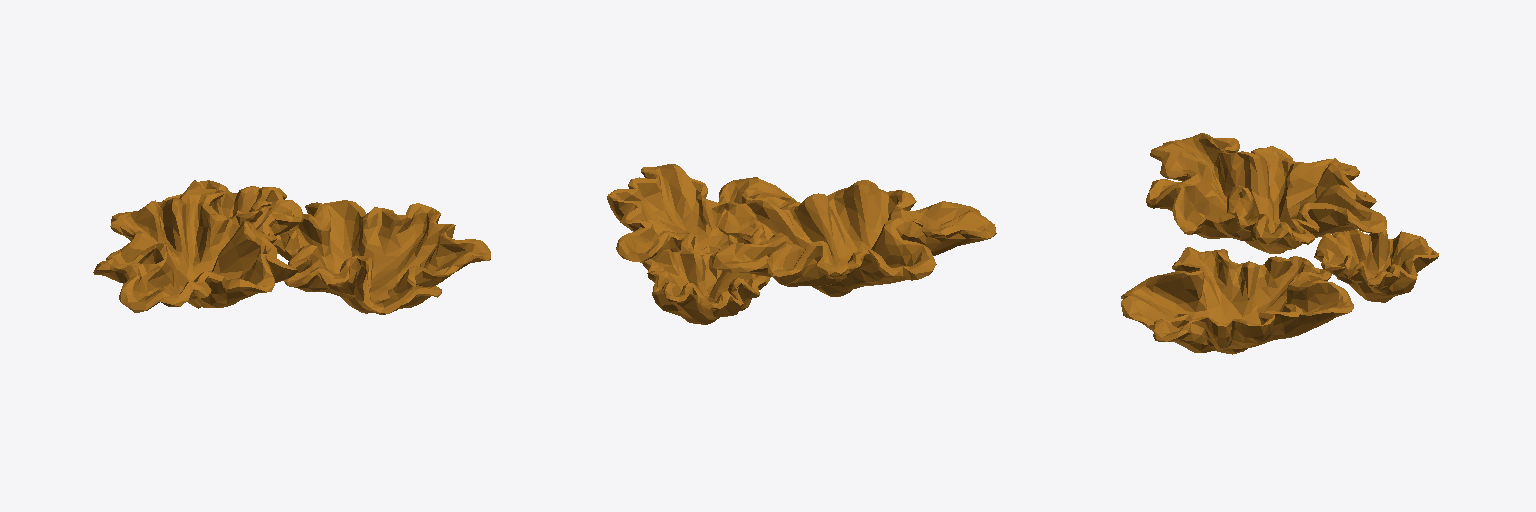
Rendered from Object_LeatherCoral1.obj.
3 views of the same model, side by side, from view 1: azimuth 30°, elevation 25°; view 2: azimuth 150°, elevation 25°; view 3: azimuth 270°, elevation 25° (orthographic).
Visible parts, largest first — view 1: LeatherCoral1; view 2: LeatherCoral1; view 3: LeatherCoral1.
Part boxes in pixels (left/top/right/bottom): LeatherCoral1: left=93, top=180, right=490, bottom=314; LeatherCoral1: left=607, top=164, right=996, bottom=324; LeatherCoral1: left=1121, top=133, right=1438, bottom=354.
Size of the model in its own units: 2.43 by 0.7155 by 1.87.